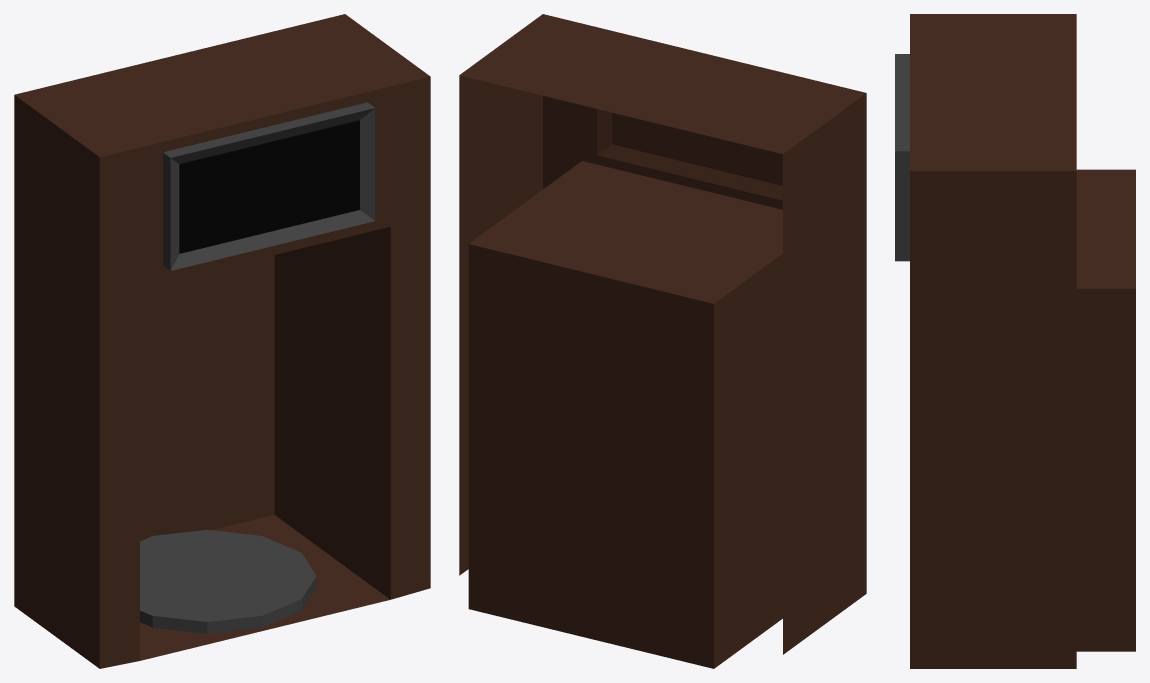
File: HotplatHeater.fbx
3 views of the same model, side by side, from view 1: azimuth 30°, elevation 25°; view 2: azimuth 150°, elevation 25°; view 3: azimuth 270°, elevation 25° (orthographic). The views are drawn at different scales.
Visible parts, largest first — view 1: Cube; view 2: Cube; view 3: Cube.
Part boxes in pixels (<box>): Cube: <box>14,14,430,668</box>; Cube: <box>459,14,866,668</box>; Cube: <box>895,14,1135,668</box>.
Bounding box in the file's own units: 1.88 × 2.78 × 1.22.
